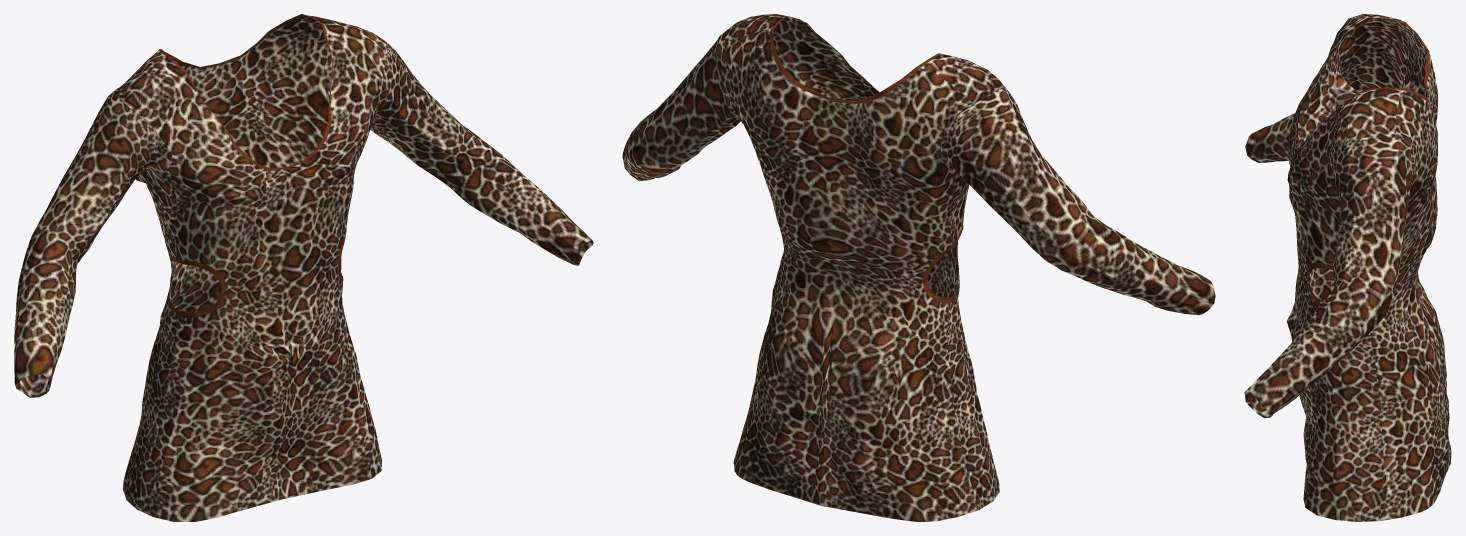
File: mhw_toigo_cut_out_dress.glb
3 views of the same model, side by side, from view 1: azimuth 30°, elevation 25°; view 2: azimuth 150°, elevation 25°; view 3: azimuth 270°, elevation 25° (orthographic). The views are drawn at different scales.
Visible parts, largest first — view 1: mhw_toigo_cut_out_dress; view 2: mhw_toigo_cut_out_dress; view 3: mhw_toigo_cut_out_dress.
Boxes of the visible parts, x1,y1,x2,y2 form: mhw_toigo_cut_out_dress: (14,14,593,521); mhw_toigo_cut_out_dress: (622,14,1215,521); mhw_toigo_cut_out_dress: (1244,14,1451,521).
Size of the model in its own units: 1.08 by 0.776 by 0.3513.
1 material, 1 textured.
